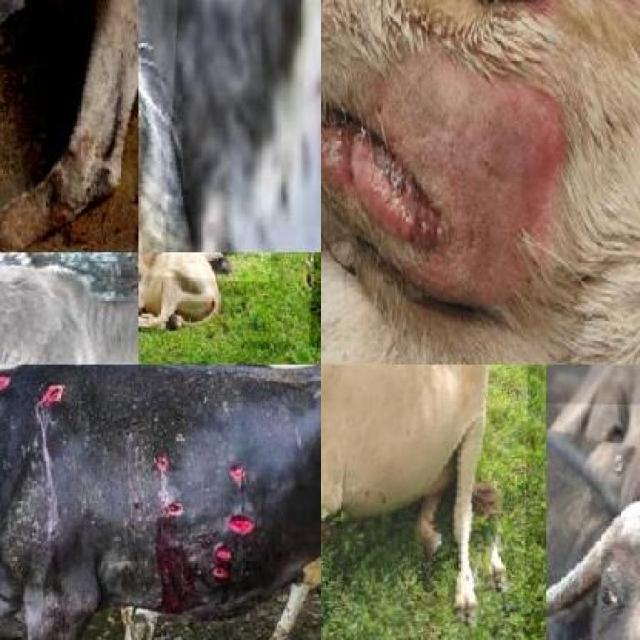buffalo: (549, 364, 640, 640), (546, 397, 640, 640)
cow: (0, 364, 320, 640), (320, 364, 529, 640), (0, 0, 138, 252), (0, 252, 138, 364)
dog: (320, 0, 640, 365)
injured: (0, 0, 138, 252), (320, 92, 420, 240), (149, 498, 208, 540), (34, 371, 72, 435), (152, 440, 180, 474)
